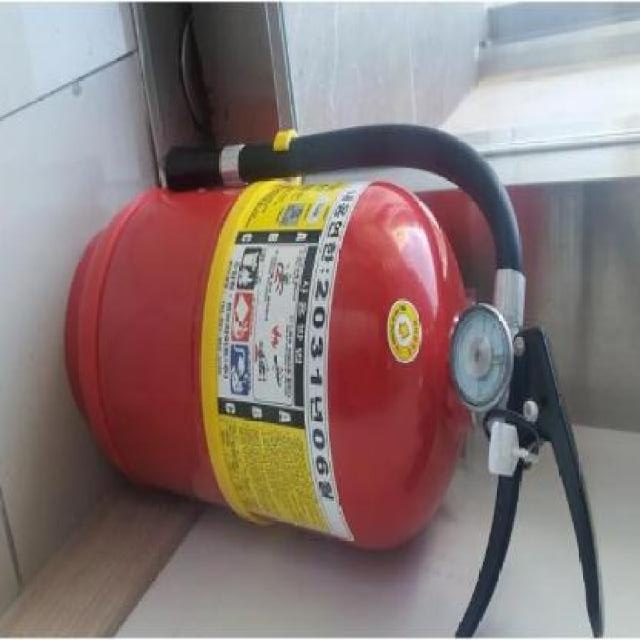fire extinguisher: (65, 121, 607, 640)
